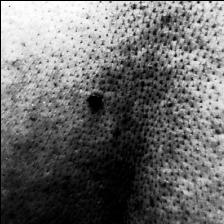Unclassified: (78, 89, 110, 114)
